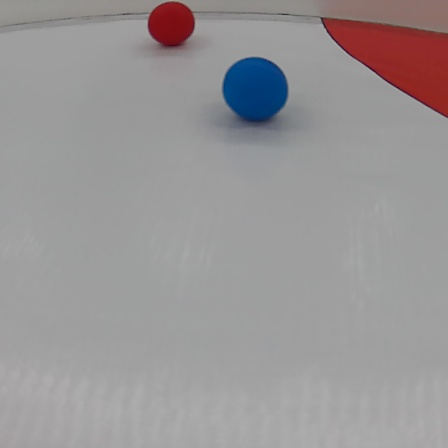blue: (216, 50, 287, 121)
red: (146, 2, 197, 46)
red_base: (314, 10, 448, 135)
